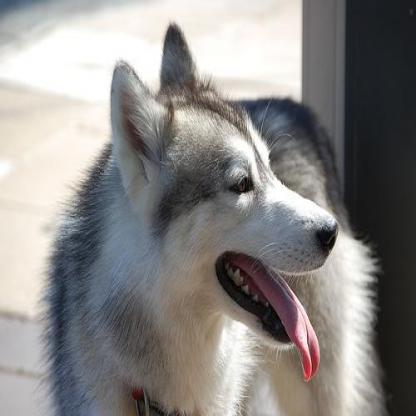Eskimo_dog: (34, 20, 389, 413)
